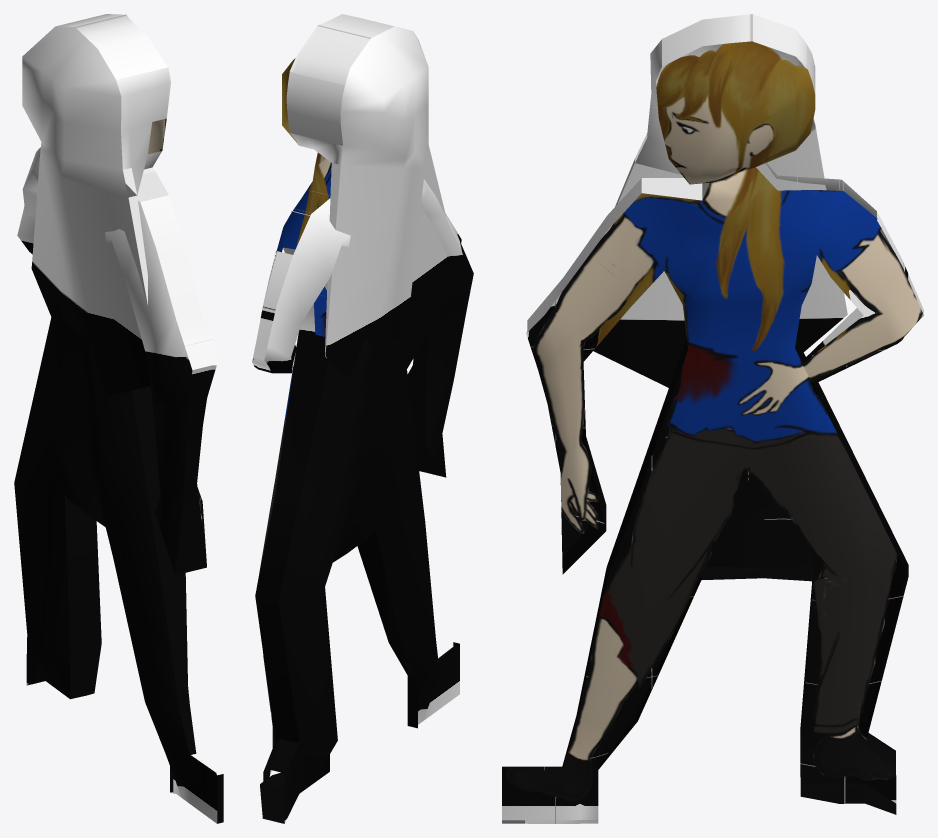
The model's file is Body_1_test.fbx.
3 views of the same model, side by side, from view 1: azimuth 30°, elevation 25°; view 2: azimuth 150°, elevation 25°; view 3: azimuth 270°, elevation 25° (orthographic). The views are drawn at different scales.
Parts seen in each view (by area): view 1: pCube1; view 2: pCube1; view 3: pCube1.
Part boxes in pixels (x1,y1,x2,y2): pCube1: (14,14,223,823); pCube1: (252,14,473,823); pCube1: (502,14,923,823).
Bounding box in the file's own units: 0.2111 × 1.47 × 0.712.
2 materials, 2 textured.
